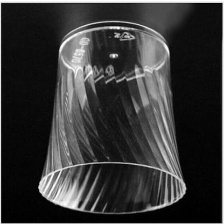glass: (29, 15, 194, 219)
